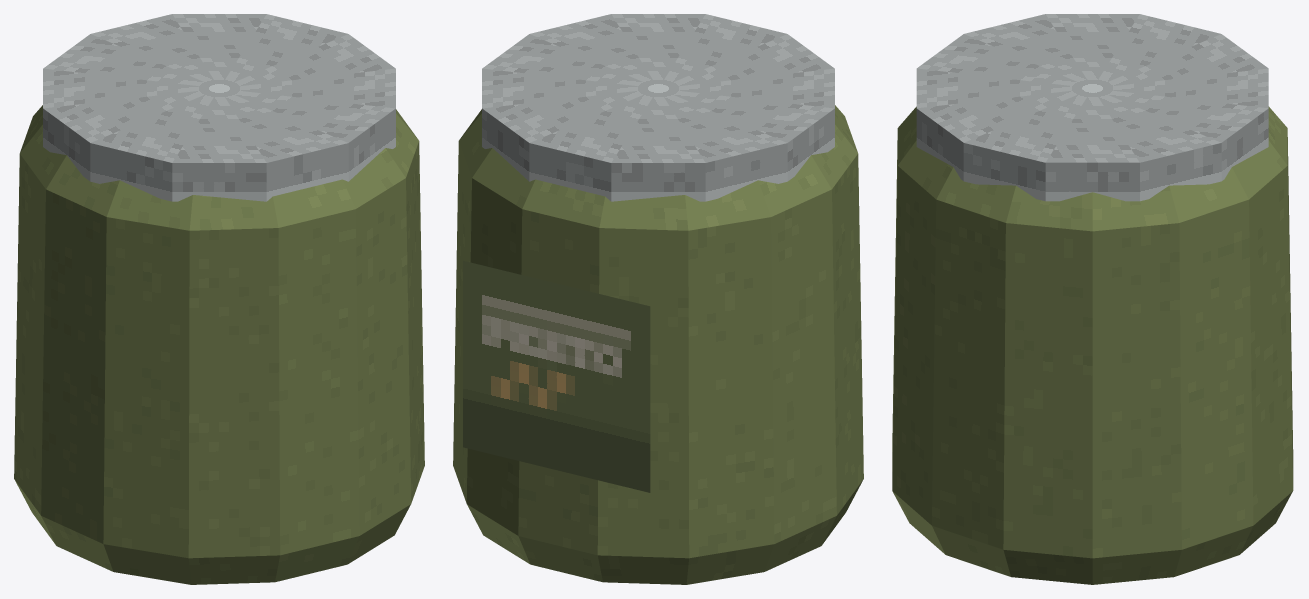
The model's file is sauce_pesto.glb.
The picture shows the model from 3 angles, left to right: view 1: azimuth 30°, elevation 25°; view 2: azimuth 150°, elevation 25°; view 3: azimuth 270°, elevation 25°; orthographic projection.
Parts seen in each view (by area): view 1: block_condiment jar, block_sealed lid; view 2: block_condiment jar, block_sealed lid, block_basil label; view 3: block_condiment jar, block_sealed lid.
Boxes of the visible parts, left/top/right/bottom form: block_condiment jar: left=14, top=105, right=424, bottom=584; block_sealed lid: left=43, top=14, right=395, bottom=201; block_condiment jar: left=453, top=105, right=863, bottom=584; block_sealed lid: left=482, top=14, right=834, bottom=201; block_basil label: left=463, top=260, right=650, bottom=492; block_condiment jar: left=892, top=106, right=1293, bottom=584; block_sealed lid: left=916, top=14, right=1268, bottom=201.
Bounding box in the file's own units: 0.107 × 0.1197 × 0.1047.
1 material, 1 textured.
